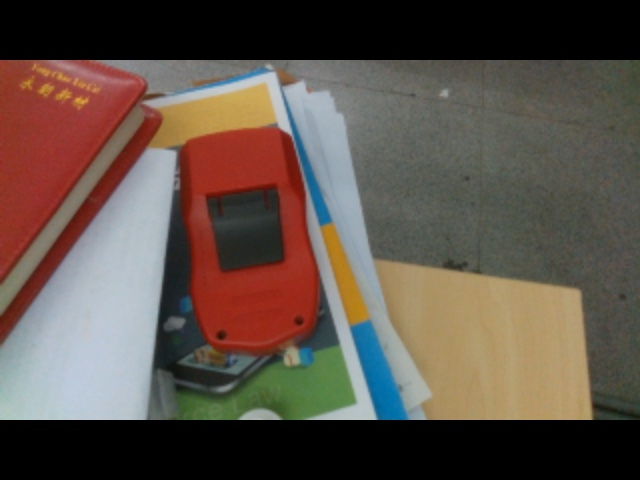Multimeter: (177, 125, 321, 351)
Screw holes: (213, 327, 231, 340), (291, 314, 306, 329)
